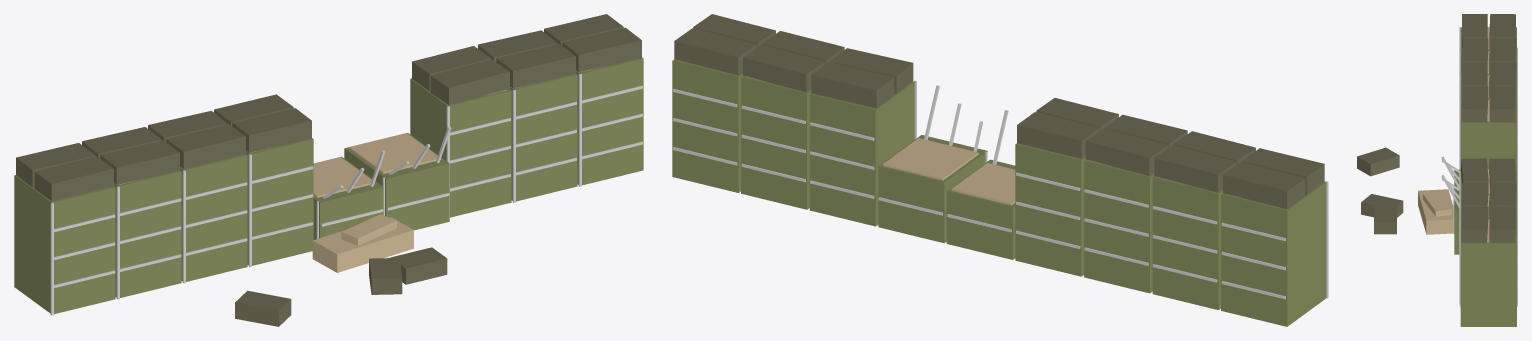
File: SM_MuroHesco_v3_RemateSacos_e1_Danado_LOD0.fbx
3 renders of one model, left to right at view 1: azimuth 30°, elevation 25°; view 2: azimuth 150°, elevation 25°; view 3: azimuth 270°, elevation 25°, orthographic. The views are drawn at different scales.
Parts seen in each view (by area): view 1: SM_bloques.muro_hesco_estados_v13_LOD0; view 2: SM_bloques.muro_hesco_estados_v13_LOD0; view 3: SM_bloques.muro_hesco_estados_v13_LOD0.
Boxes of the visible parts, <box> form: SM_bloques.muro_hesco_estados_v13_LOD0: <box>14,14,643,326</box>; SM_bloques.muro_hesco_estados_v13_LOD0: <box>672,14,1328,326</box>; SM_bloques.muro_hesco_estados_v13_LOD0: <box>1357,14,1517,326</box>.
Bounding box in the file's own units: 9.98 × 2.09 × 3.14.
